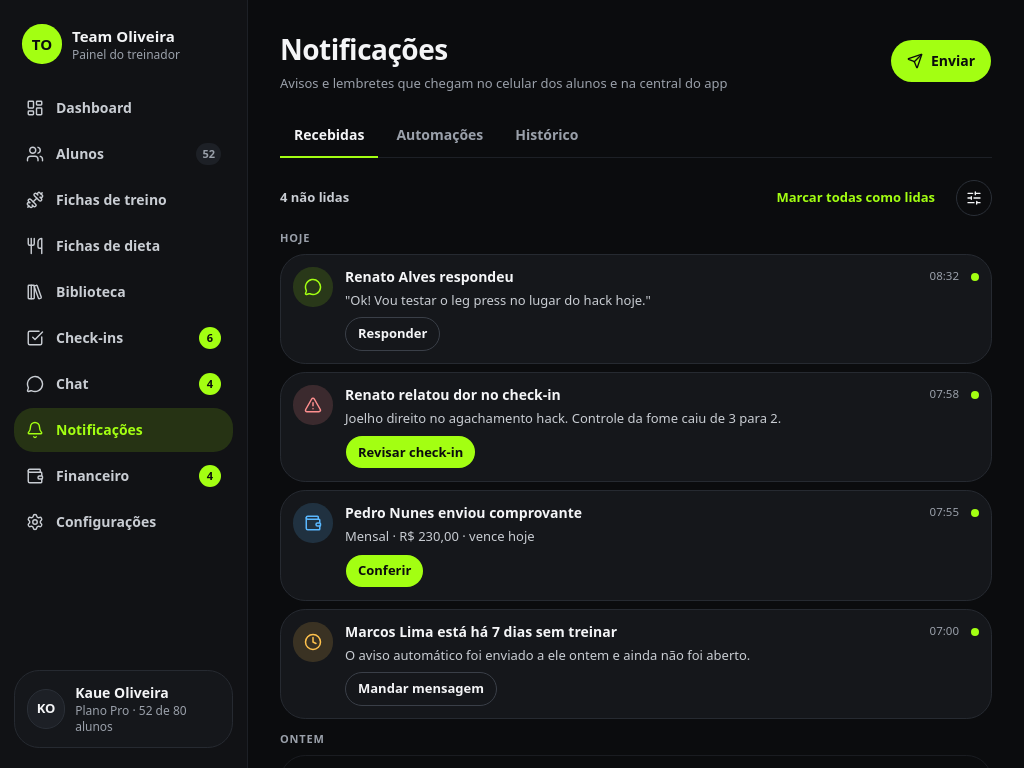
Scenario: Notificações (celular) › recebidas: 4 não lidas hoje; abrir uma e marcar todas
Expected: the text "4 não lidas" is shown, [280,188,349,206]
Click the button "Marcar todas como lidas".
click(856, 198)  # box [763,178,948,218]
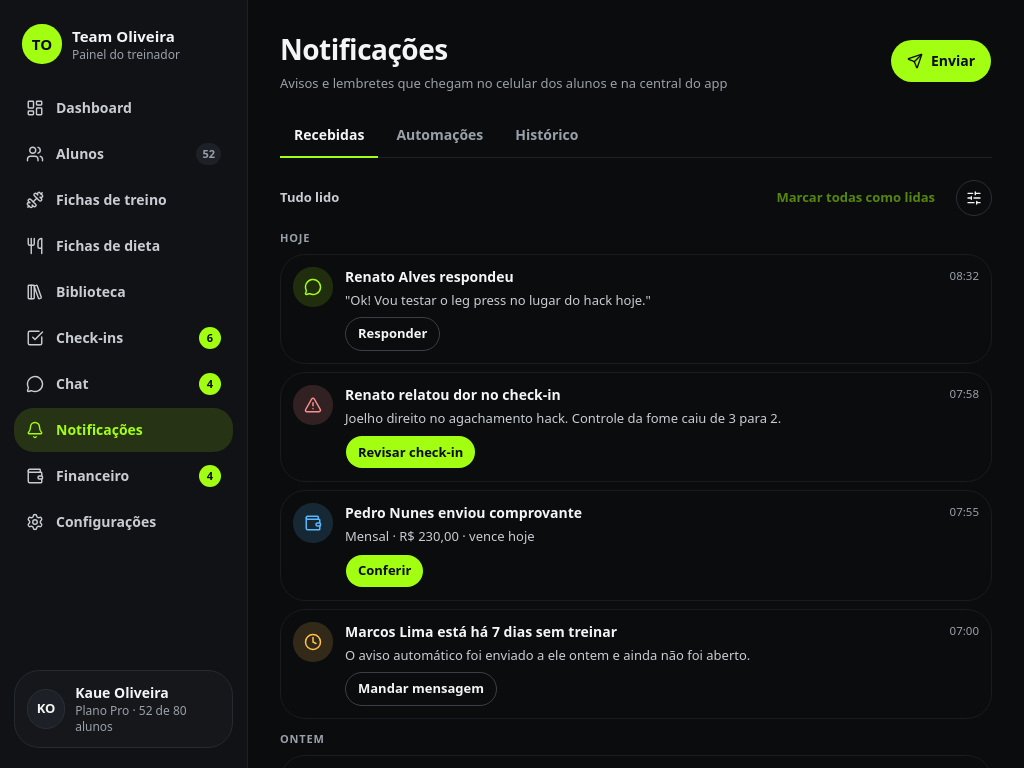
Result: the text "Tudo lido" is shown at [280,188,339,206]
